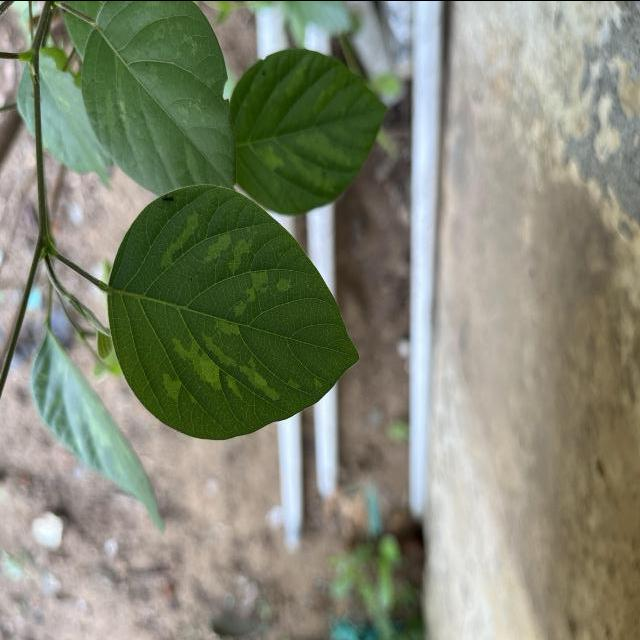Desmodium gangeticum: (101, 180, 364, 446)
